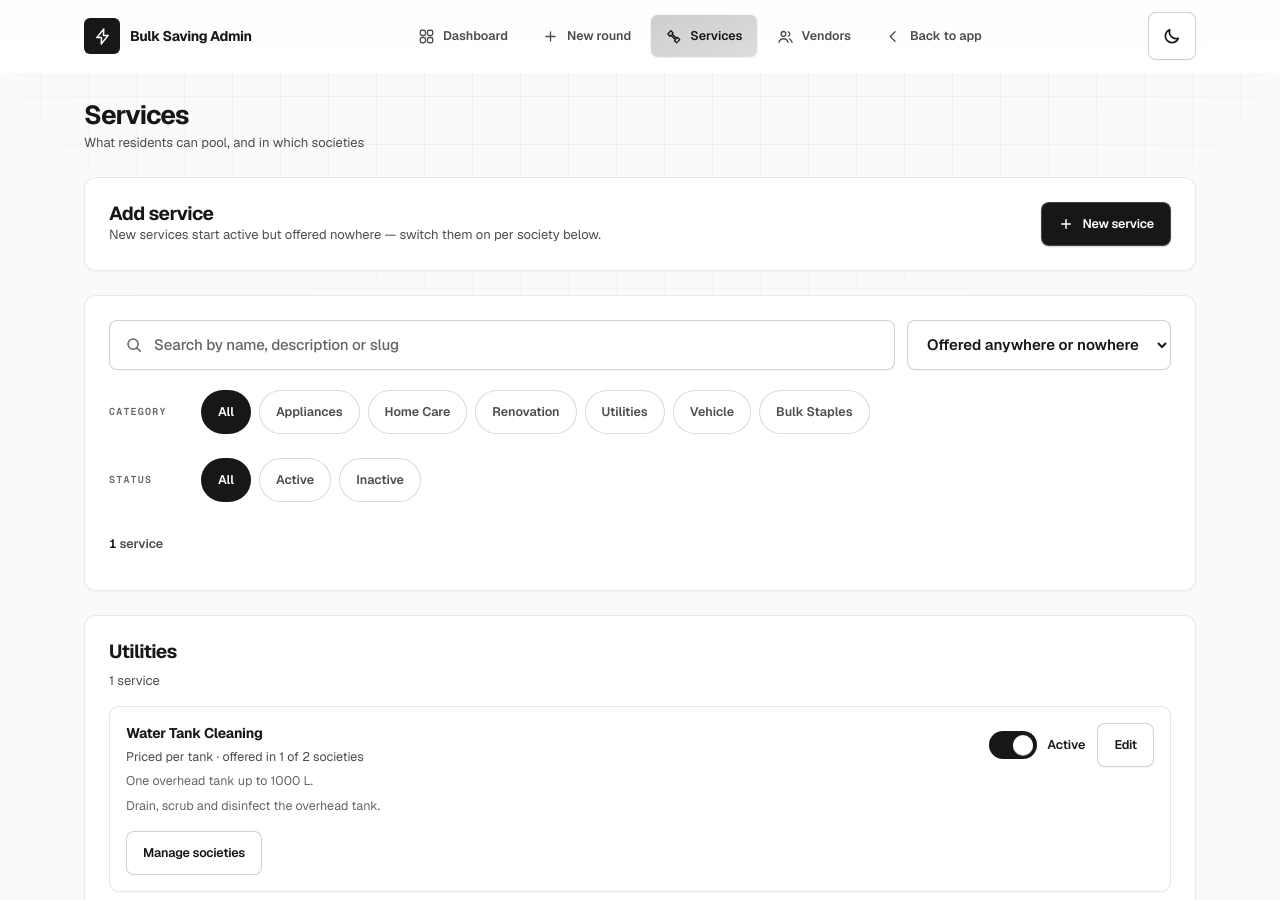
Scenario: AdminServicesPage › a price typed while an earlier save is in flight stays unsaved — a later refresh does not wipe it (CHORE-020 V2 P2-b)
The width and height of the screenshot is (1280, 900).
Click the button "Manage societies" at (194, 853), box [126,831,262,875]
(page scrolled)
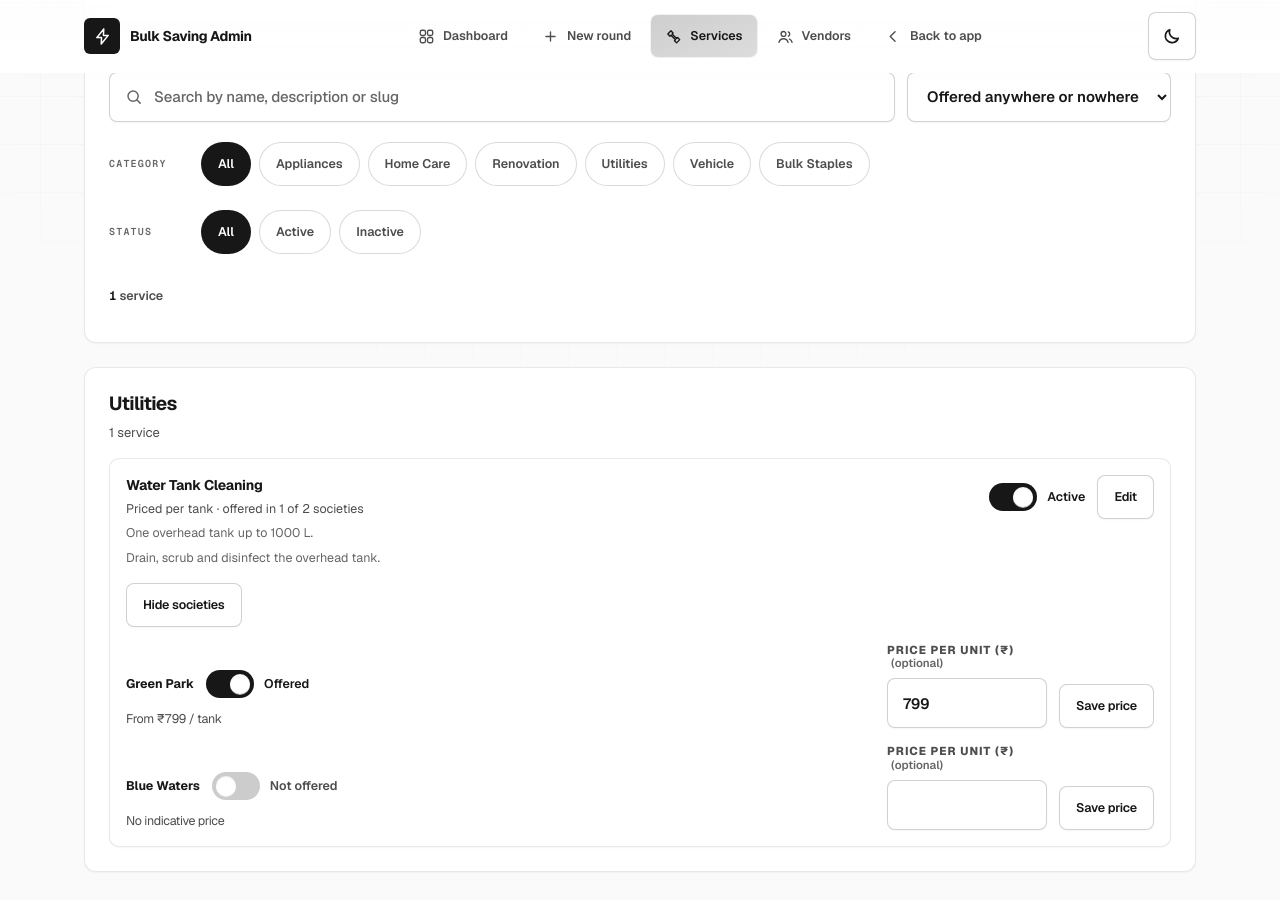
Replace the text in the field labelled "Price per unit (₹)(optional)" in the row of "From ₹799 / tank" with "600" at (967, 703), box [887,678,1047,728]
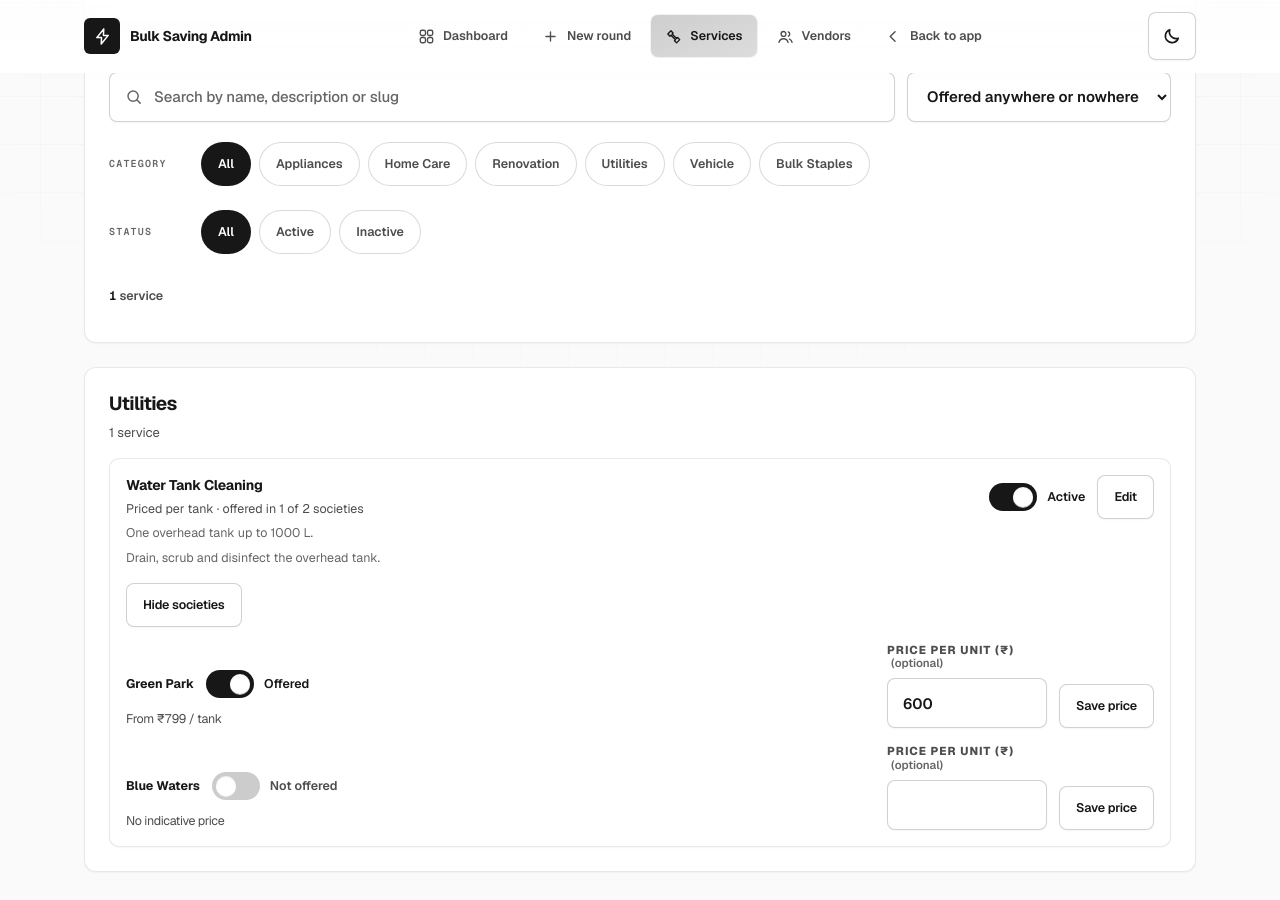
Click the button "Save price" in the row of "From ₹799 / tank" at (1107, 706), box [1059,684,1154,728]
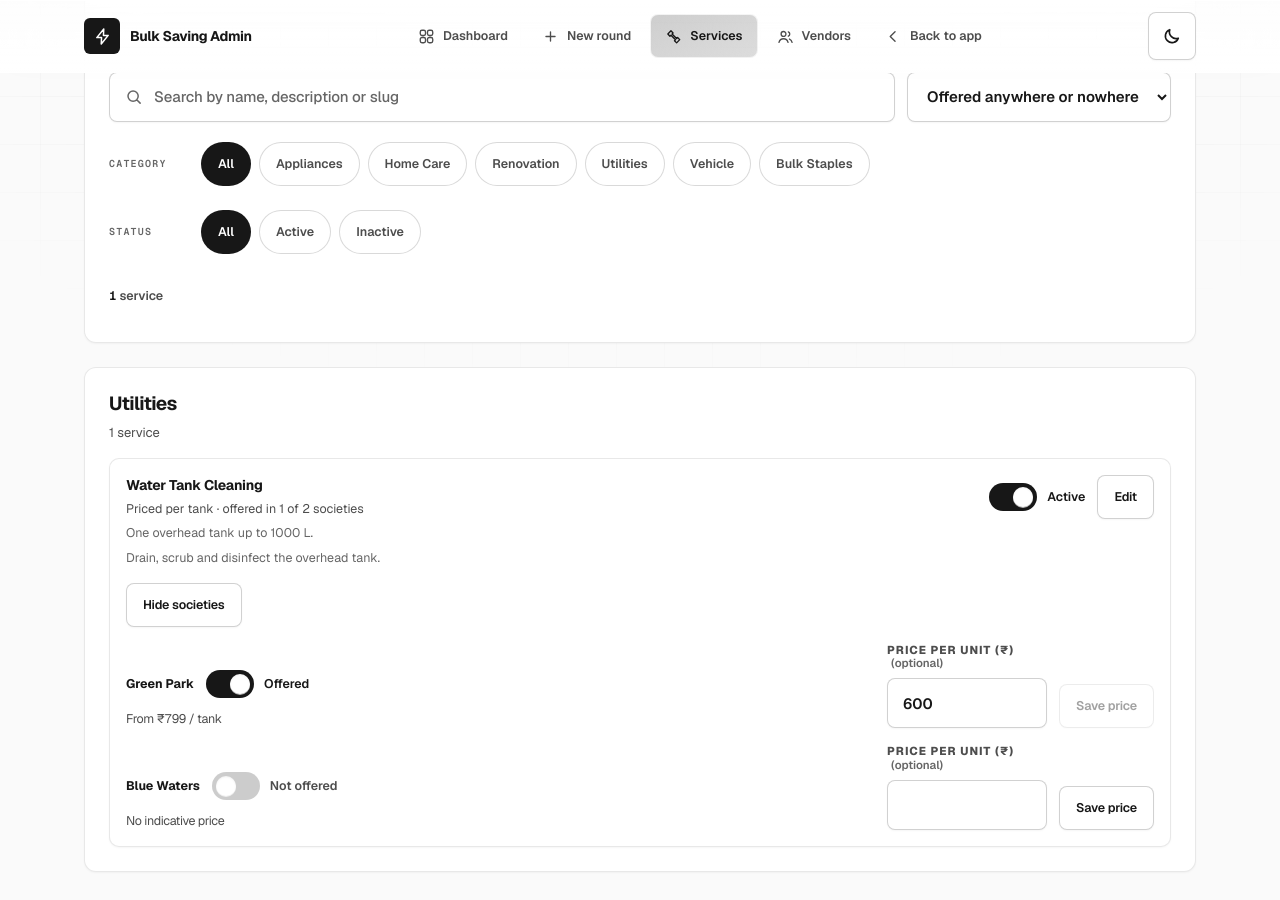
Replace the text in the field labelled "Price per unit (₹)(optional)" in the row of "From ₹799 / tank" with "700" at (967, 703), box [887,678,1047,728]
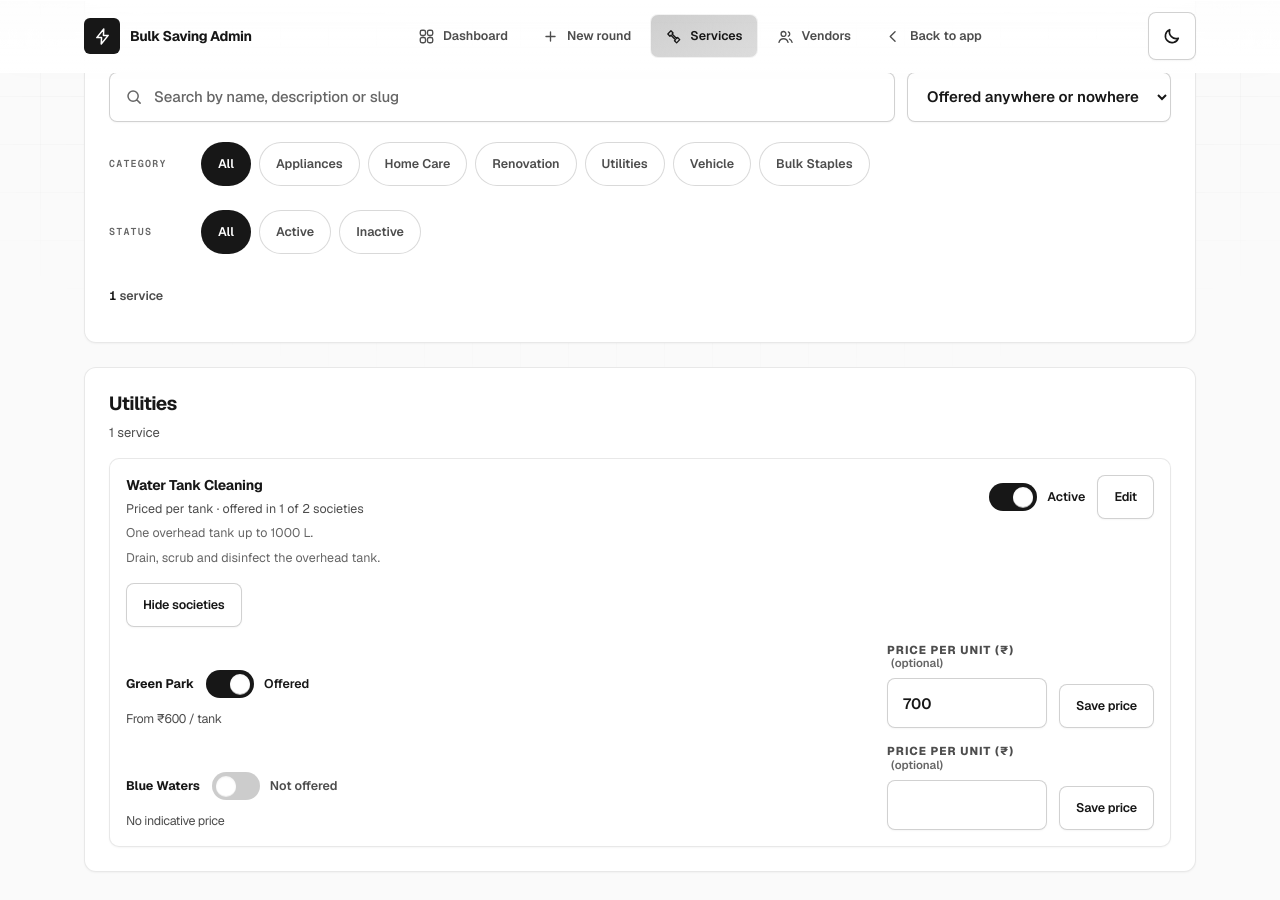
Expected: the text "From ₹600 / tank" is shown, [126,710,222,727]
